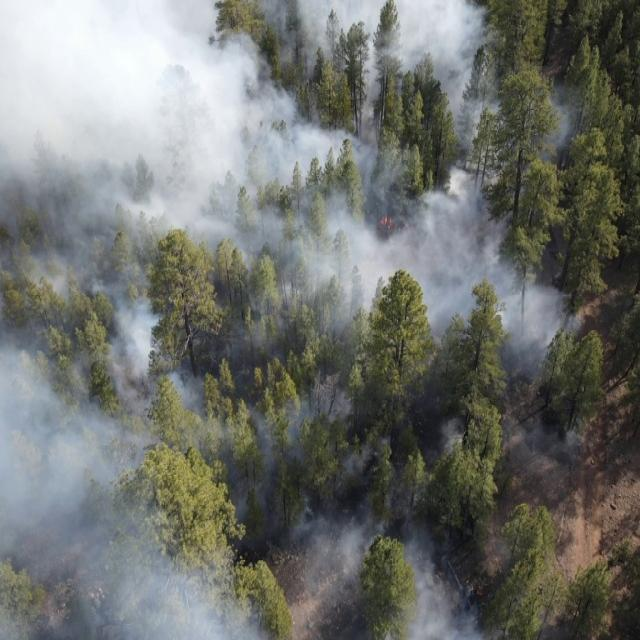fire: (376, 212, 420, 244)
smoke: (0, 0, 498, 640), (498, 213, 583, 383), (498, 81, 585, 165), (511, 423, 584, 476)
